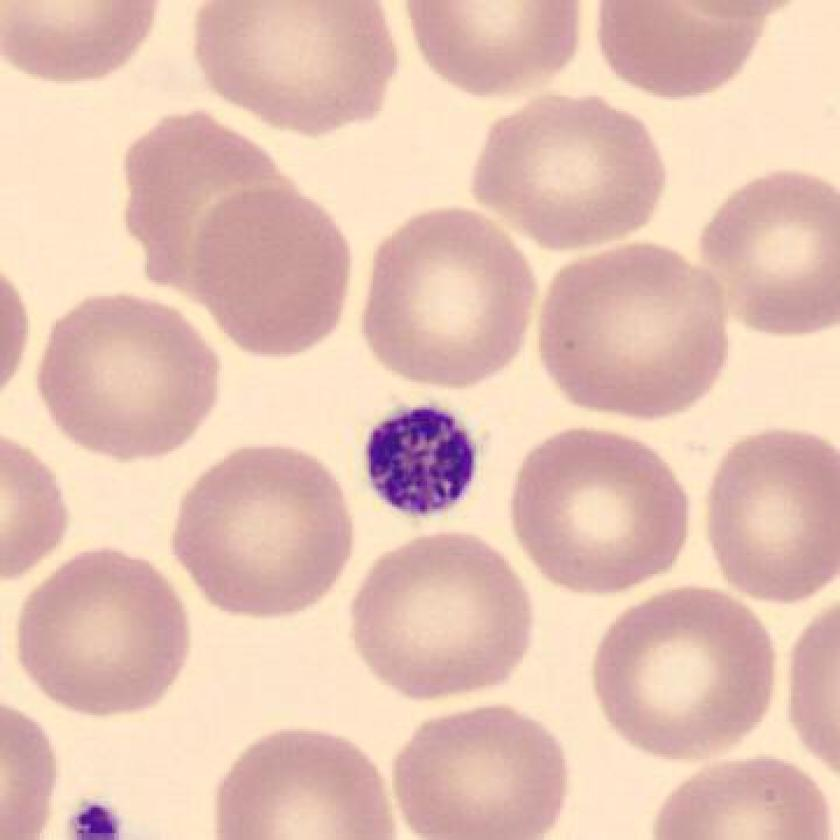platelets: (354, 397, 494, 526), (59, 788, 132, 840)
